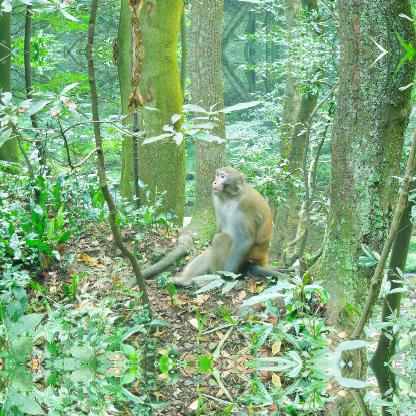Monkey: (168, 166, 272, 288)
